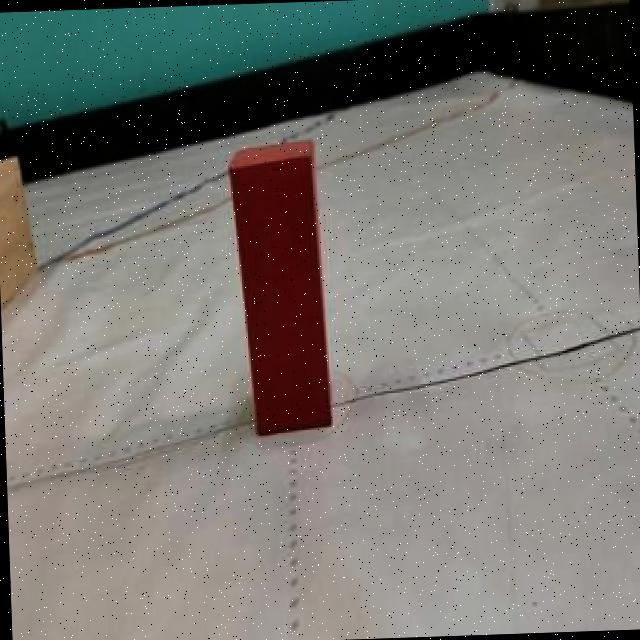redbox: (228, 139, 330, 438)
